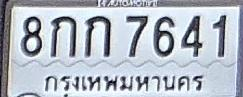1: (213, 14, 226, 57)
4: (181, 14, 202, 56)
6: (154, 16, 174, 57)
7: (126, 15, 148, 57)
8: (21, 15, 42, 56)
A01: (84, 15, 111, 57), (50, 15, 76, 57)
BKK: (40, 70, 206, 97)
